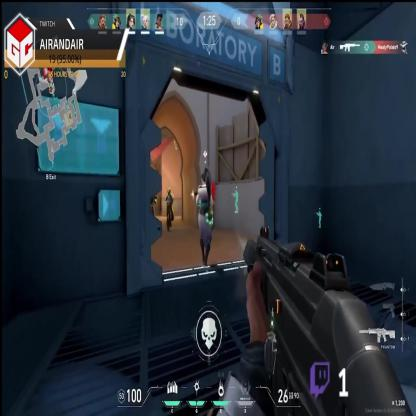enemy: (146, 188, 156, 238), (165, 189, 175, 229)
enemy_head: (148, 188, 153, 197), (168, 188, 171, 193)
